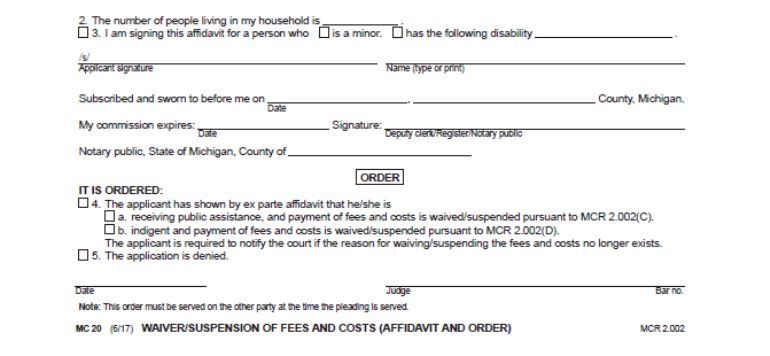checkbox: (77, 25, 90, 40), (318, 25, 331, 40), (391, 25, 404, 40), (77, 195, 90, 210), (77, 246, 90, 261), (103, 221, 116, 236), (103, 208, 116, 223)
textline: (75, 46, 378, 66), (384, 46, 687, 66), (382, 113, 688, 132), (384, 273, 687, 288), (412, 88, 598, 105), (286, 143, 472, 158), (533, 22, 674, 40), (266, 88, 411, 105), (196, 116, 331, 132), (72, 274, 209, 288), (321, 12, 400, 27)
